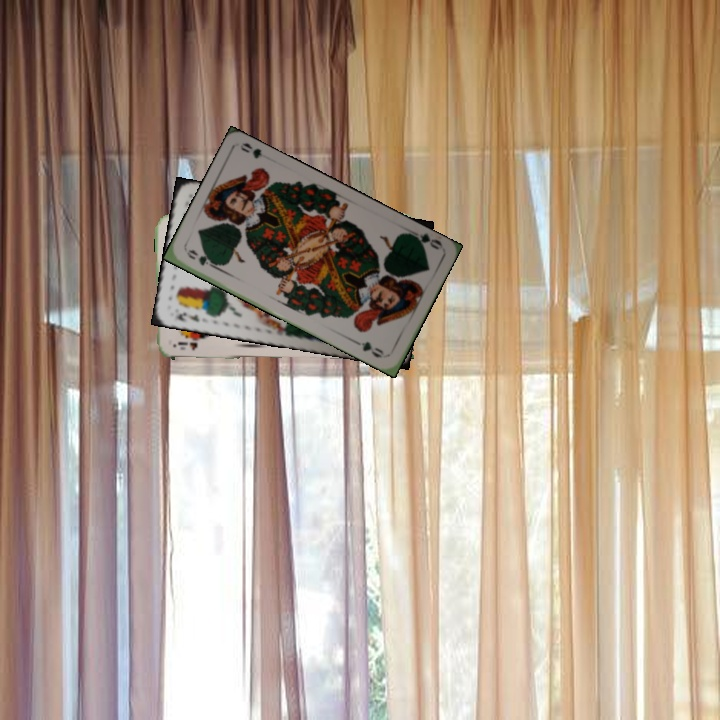EK: (172, 308, 202, 324)
GO: (182, 245, 222, 272), (404, 226, 445, 252)
SO: (174, 338, 200, 353)
